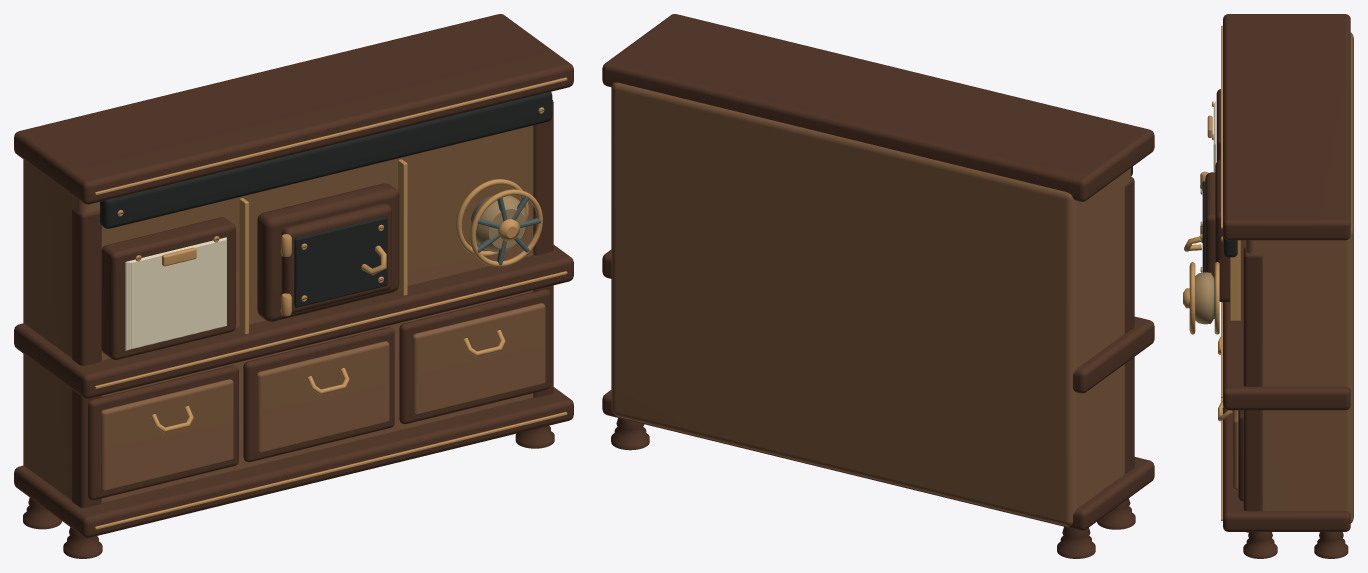
Rendered from hall.glb.
3 views of the same model, side by side, from view 1: azimuth 30°, elevation 25°; view 2: azimuth 150°, elevation 25°; view 3: azimuth 270°, elevation 25° (orthographic). The views are drawn at different scales.
Visible parts, largest first — view 1: Projecting moulded rail.002, Carcass, Projecting moulded rail.001, Projecting moulded rail, Cast header plate, Fielded walnut panel, Fielded walnut panel.001, Fielded walnut panel.002, Deckled folio leaf.004, Dovetailed document tray, Ebonised stile, Raised moulded face (+17 smaller); view 2: Carcass, Projecting moulded rail.002, Projecting moulded rail, Ebonised stile, Projecting moulded rail.001, Turned pilaster foot.001, Turned pilaster foot.003, Turned pilaster foot; view 3: Projecting moulded rail.002, Carcass, Projecting moulded rail.001, Ebonised stile.001, Projecting moulded rail, Rebated hatch casing, Deep-pressed hatch leaf, Cord wound around hub, Turned pilaster foot.003, Turned pilaster foot.002, Station divider.001, Recessed door panel.002 (+7 smaller).
Boxes of the visible parts, <box> form: Projecting moulded rail.002: <box>14,14,573,204</box>; Carcass: <box>23,125,533,502</box>; Projecting moulded rail.001: <box>14,245,573,398</box>; Projecting moulded rail: <box>14,387,573,537</box>; Cast header plate: <box>100,92,552,228</box>; Fielded walnut panel: <box>100,379,233,491</box>; Fielded walnut panel.001: <box>256,341,389,453</box>; Fielded walnut panel.002: <box>412,303,545,415</box>; Deckled folio leaf.004: <box>131,239,226,348</box>; Dovetailed document tray: <box>101,217,235,359</box>; Ebonised stile: <box>71,209,101,507</box>; Raised moulded face: <box>294,216,387,307</box>; Carcass: <box>611,82,1130,526</box>; Projecting moulded rail.002: <box>602,14,1154,201</box>; Projecting moulded rail: <box>602,390,1154,530</box>; Ebonised stile: <box>1124,177,1134,473</box>; Projecting moulded rail.001: <box>602,250,1154,393</box>; Turned pilaster foot.001: <box>1057,526,1095,558</box>; Turned pilaster foot.003: <box>611,418,649,450</box>; Turned pilaster foot: <box>1097,498,1135,529</box>; Projecting moulded rail.002: <box>1223,14,1350,240</box>; Carcass: <box>1245,32,1353,523</box>; Projecting moulded rail.001: <box>1223,240,1350,410</box>; Ebonised stile.001: <box>1243,247,1262,532</box>; Projecting moulded rail: <box>1223,407,1350,531</box>; Rebated hatch casing: <box>1215,159,1229,302</box>; Deep-pressed hatch leaf: <box>1205,172,1215,277</box>; Cord wound around hub: <box>1195,272,1213,324</box>; Turned pilaster foot.003: <box>1314,532,1348,558</box>; Turned pilaster foot.002: <box>1243,532,1277,558</box>; Station divider.001: <box>1230,240,1240,320</box>; Recessed door panel.002: <box>1238,410,1243,501</box>.
Bounding box in the file's own units: 2.52 × 1.9 × 0.869.
